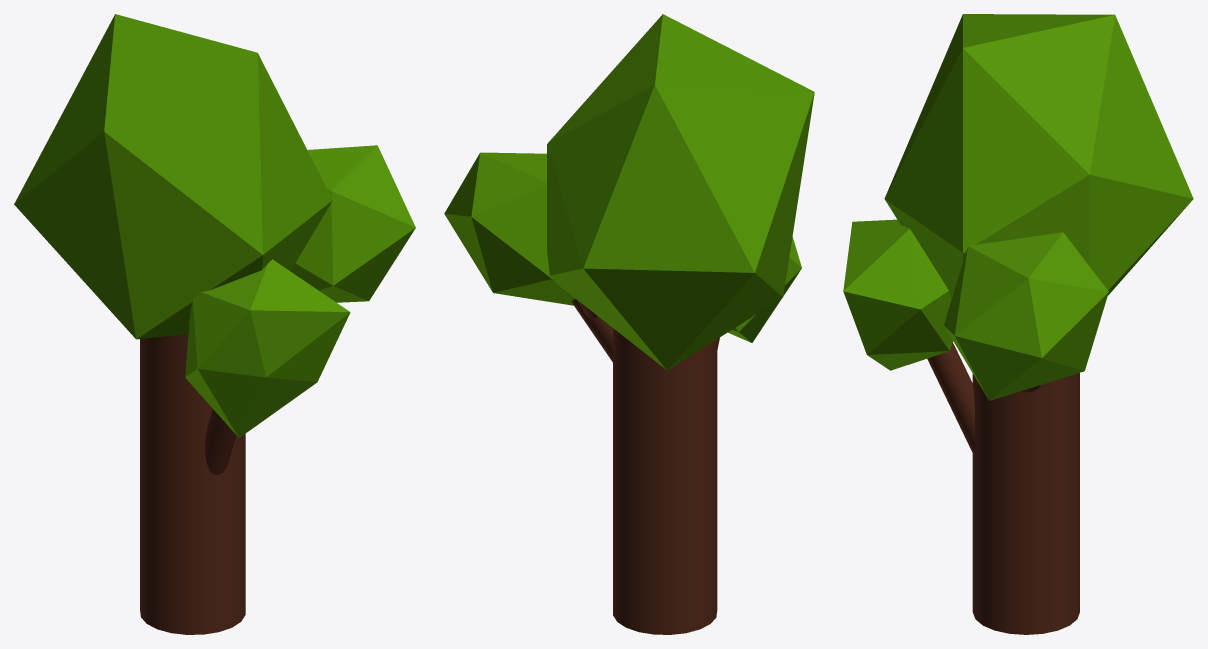
File: Tree.fbx
3 views of the same model, side by side, from view 1: azimuth 30°, elevation 25°; view 2: azimuth 150°, elevation 25°; view 3: azimuth 270°, elevation 25° (orthographic). The views are drawn at different scales.
Parts seen in each view (by area): view 1: pPlatonic1, pCylinder1, pPlatonic3, pPlatonic2, pCylinder3; view 2: pPlatonic1, pCylinder1, pPlatonic2, pPlatonic3, pCylinder2; view 3: pPlatonic1, pCylinder1, pPlatonic2, pPlatonic3, pCylinder3.
Boxes of the visible parts, x1,y1,x2,y2 form: pPlatonic1: (14,14,332,339); pCylinder1: (140,334,245,634); pPlatonic3: (185,259,350,437); pPlatonic2: (290,145,415,302); pCylinder3: (205,409,236,474); pPlatonic1: (547,14,814,370); pCylinder1: (613,328,717,634); pPlatonic2: (444,152,575,305); pPlatonic3: (728,237,801,342); pCylinder2: (571,299,612,362); pPlatonic1: (884,14,1193,299); pCylinder1: (972,373,1079,634); pPlatonic2: (944,232,1108,400); pPlatonic3: (843,219,953,370); pCylinder3: (927,342,975,454).
Size of the model in its own units: 7.63 by 11.96 by 6.54.
